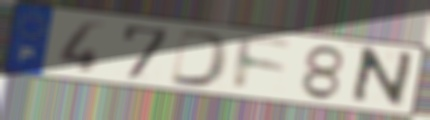4: (56, 18, 104, 76)
7: (118, 23, 173, 80)
8: (300, 44, 347, 101)
D: (167, 27, 233, 90)
F: (231, 33, 296, 94)
N: (345, 46, 417, 111)
